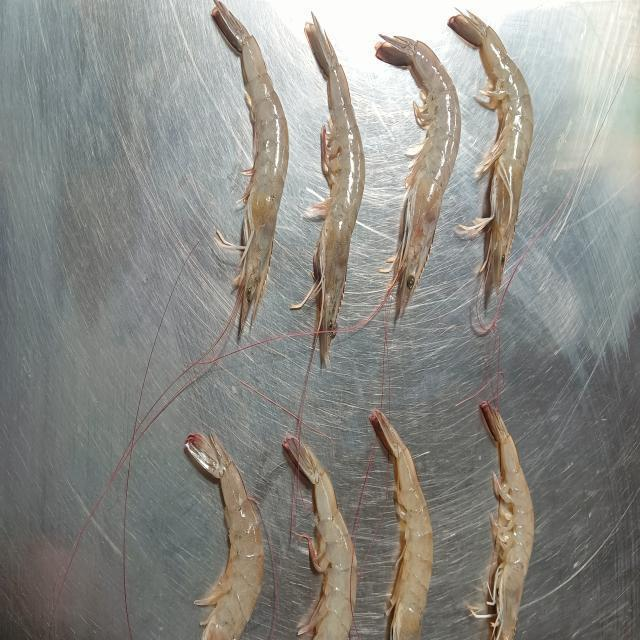shrimp: (212, 0, 289, 330), (449, 13, 532, 299), (376, 38, 461, 317), (305, 20, 365, 361), (185, 434, 264, 638), (282, 436, 358, 640), (371, 412, 432, 638), (489, 412, 532, 638)
